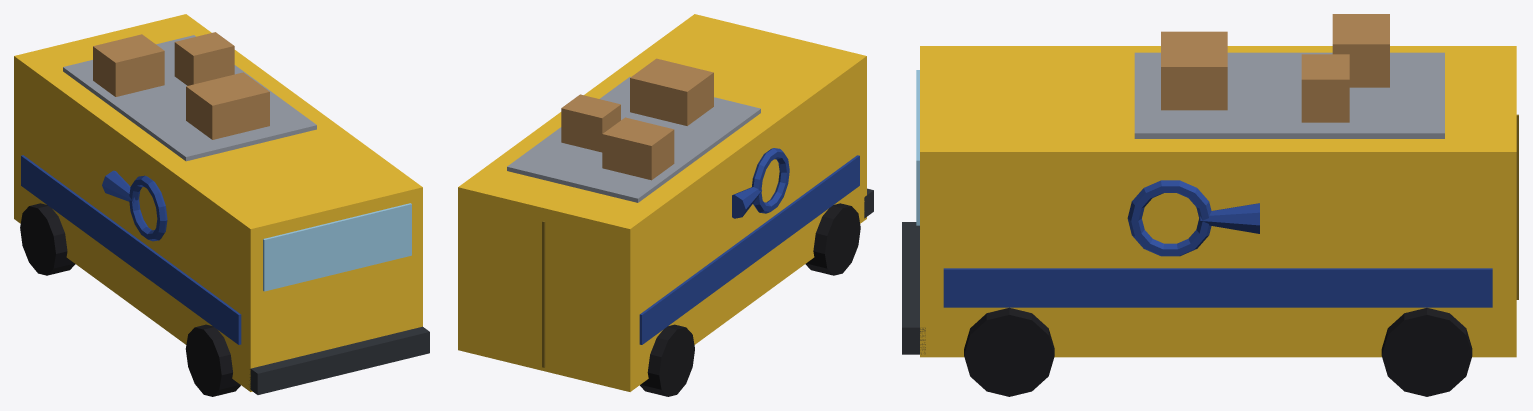
Rendered from mail_van.glb.
3 views of the same model, side by side, from view 1: azimuth 30°, elevation 25°; view 2: azimuth 150°, elevation 25°; view 3: azimuth 270°, elevation 25° (orthographic). The views are drawn at different scales.
Visible parts, largest first — view 1: body_van_yellow, rack_parcel_card, band_van_blue, body_car_glass, rack_rack_metal, wheels_tire (×2), body_bumper; view 2: body_van_yellow, rack_parcel_card, band_van_blue, rack_rack_metal, wheels_tire (×2), doors_door_line; view 3: body_van_yellow, band_van_blue, rack_rack_metal, wheels_tire (×2), rack_parcel_card, body_bumper, body_car_glass, doors_door_line.
Boxes of the visible parts, bbox=[...] form: body_van_yellow: bbox=[14, 14, 422, 391]; rack_parcel_card: bbox=[93, 32, 269, 139]; band_van_blue: bbox=[21, 155, 241, 344]; body_car_glass: bbox=[263, 203, 411, 291]; rack_rack_metal: bbox=[63, 35, 316, 161]; wheels_tire (×2): bbox=[20, 203, 240, 396]; body_bumper: bbox=[249, 326, 429, 394]; body_van_yellow: bbox=[458, 14, 866, 391]; rack_parcel_card: bbox=[561, 58, 713, 180]; band_van_blue: bbox=[639, 148, 859, 344]; rack_rack_metal: bbox=[507, 76, 760, 202]; wheels_tire (×2): bbox=[640, 203, 860, 396]; doors_door_line: bbox=[542, 221, 545, 367]; body_van_yellow: bbox=[920, 46, 1516, 357]; band_van_blue: bbox=[943, 180, 1492, 307]; rack_rack_metal: bbox=[1134, 52, 1444, 138]; wheels_tire (×2): bbox=[964, 307, 1472, 396]; rack_parcel_card: bbox=[1161, 14, 1389, 122]; body_bumper: bbox=[902, 222, 925, 354]; body_car_glass: bbox=[916, 70, 919, 225]; doors_door_line: bbox=[1516, 114, 1518, 299].
Size of the model in its own units: 2.44 by 2.66 by 5.17.
